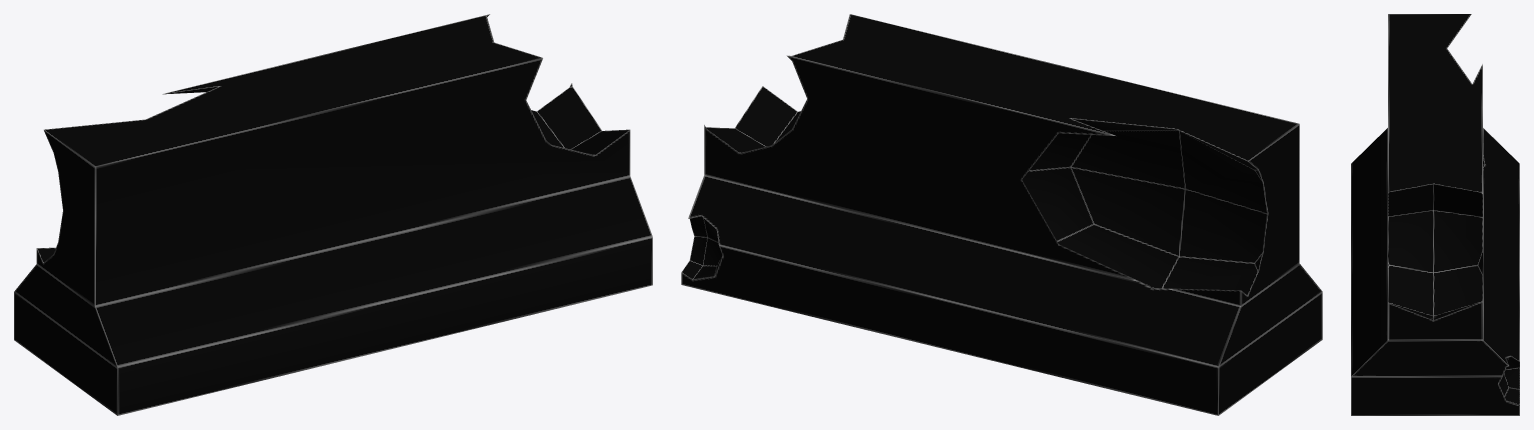
Rendered from Obstacle.fbx.
3 views of the same model, side by side, from view 1: azimuth 30°, elevation 25°; view 2: azimuth 150°, elevation 25°; view 3: azimuth 270°, elevation 25° (orthographic). The views are drawn at different scales.
Visible parts, largest first — view 1: pCube8; view 2: pCube8; view 3: pCube8.
Boxes of the visible parts, left/top/right/bottom form: pCube8: left=14, top=14, right=652, bottom=415; pCube8: left=681, top=14, right=1322, bottom=415; pCube8: left=1351, top=14, right=1519, bottom=415.
Size of the model in its own units: 128 by 52.83 by 42.76.
